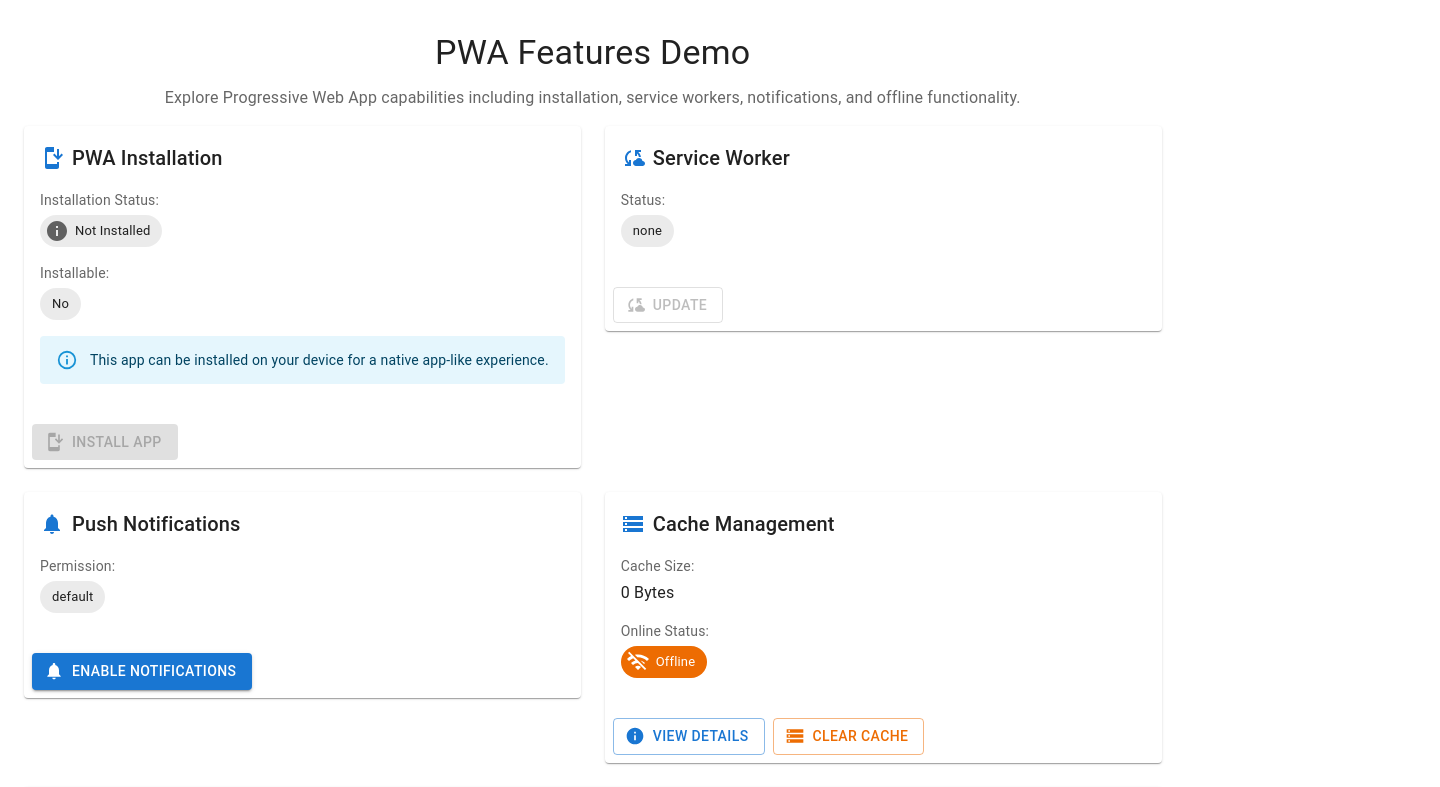
Test: PWAFeaturesDemo › handles cache details viewing
This screenshot has width=1440, height=787.
Click the button "View Details". click: coordinates (689, 736)
box: [613,718,764,754]
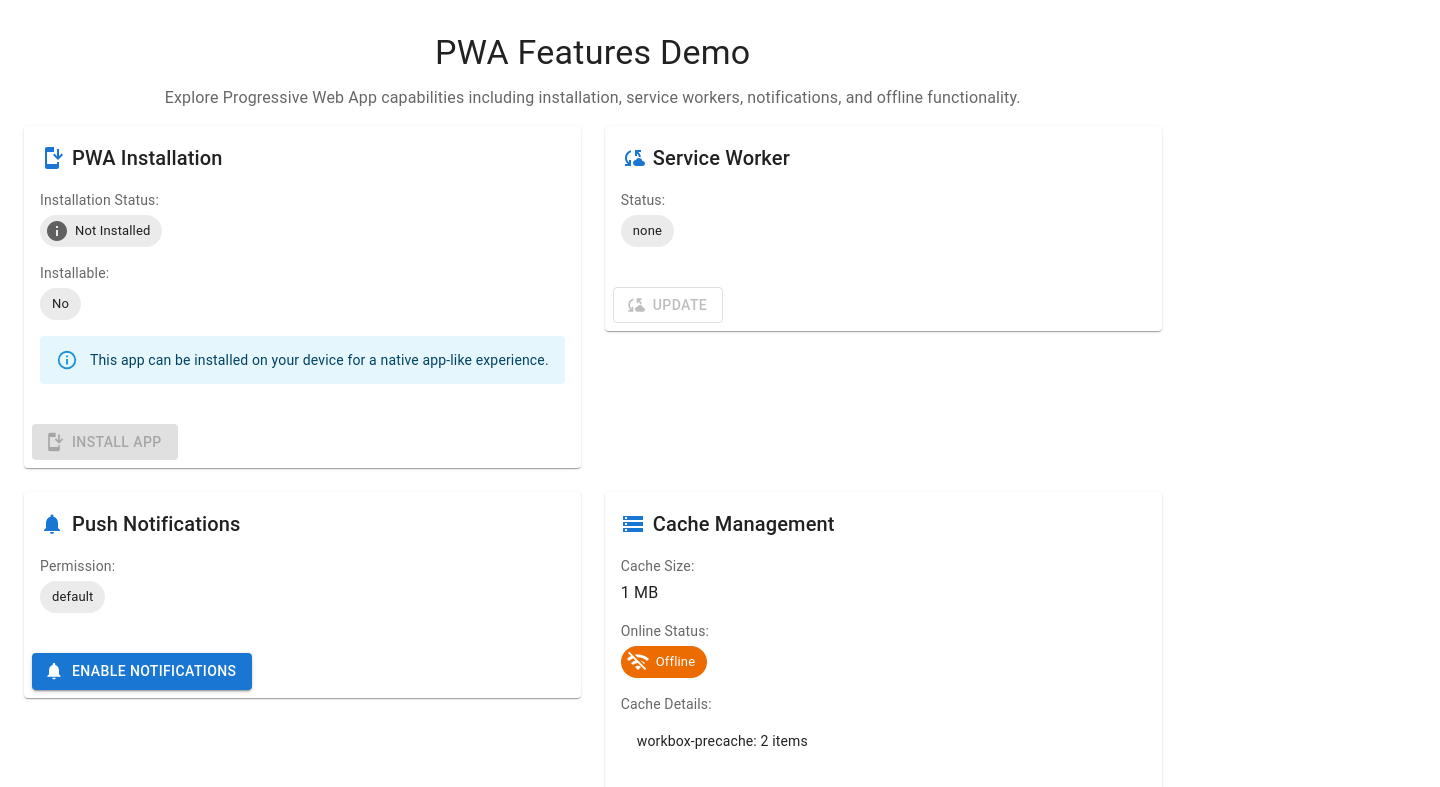
Expected: the text "workbox-precache: 2 items" is shown, [637,733,808,749]
